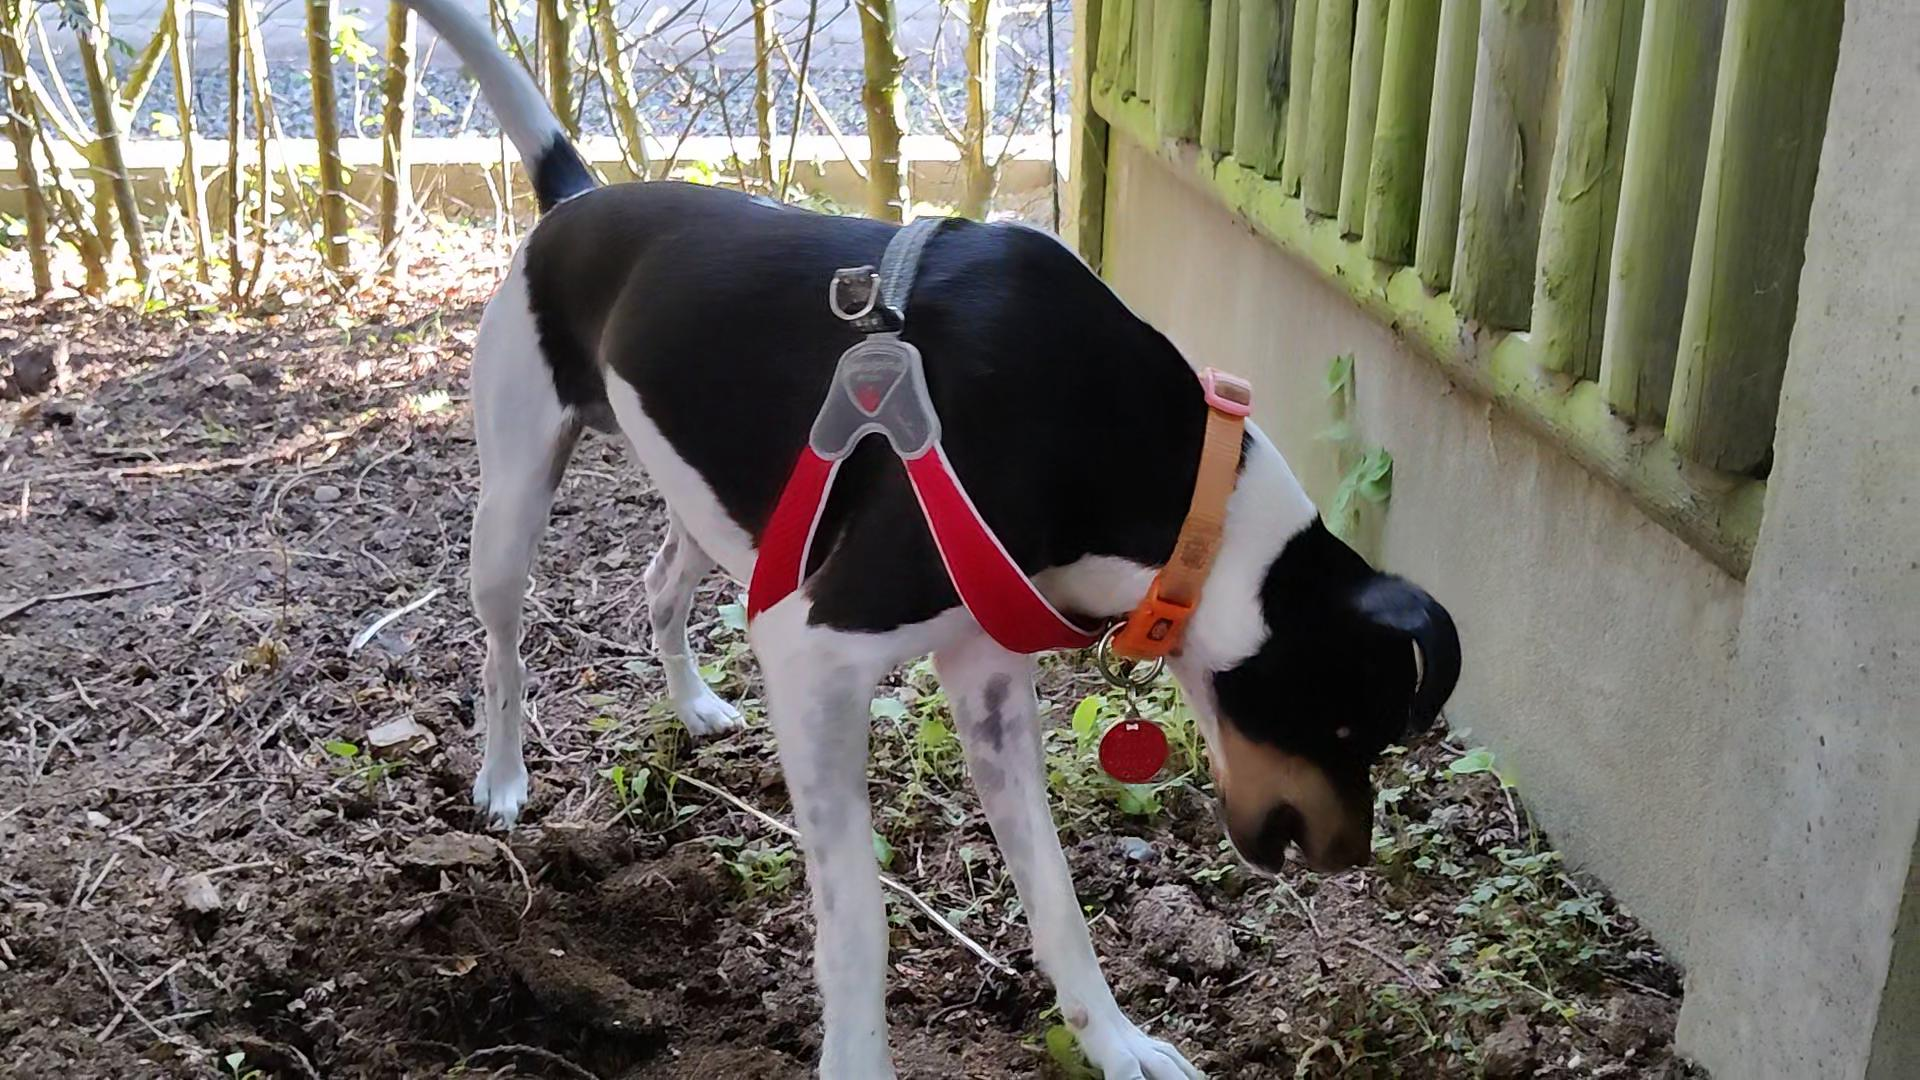Dog: (375, 0, 1477, 1079)
